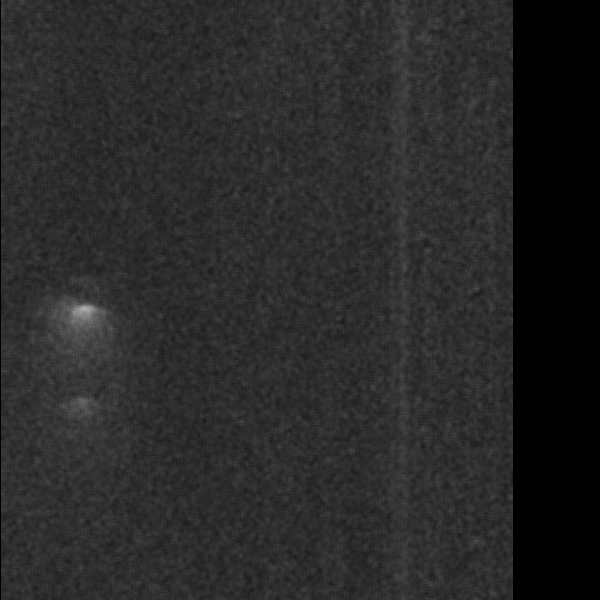spark: (56, 295, 108, 369), (57, 389, 101, 424)
